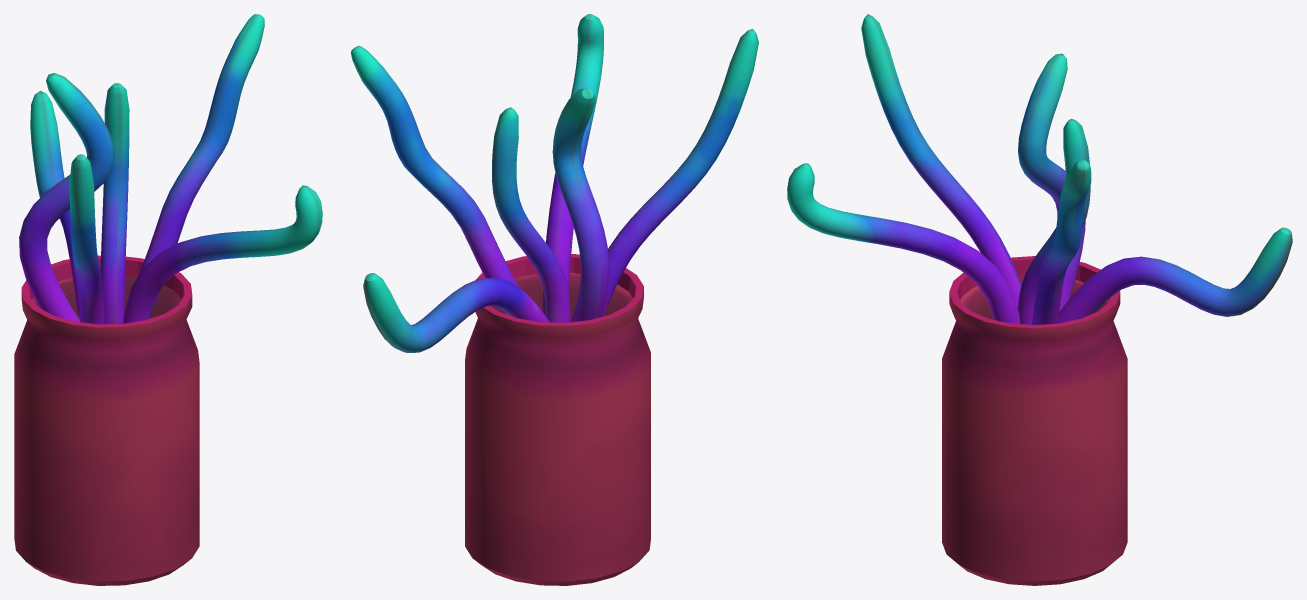
File: Food_Worms.fbx
3 renders of one model, left to right at view 1: azimuth 30°, elevation 25°; view 2: azimuth 150°, elevation 25°; view 3: azimuth 270°, elevation 25°, orthographic.
Visible parts, largest first — view 1: pCylinder13; view 2: pCylinder13; view 3: pCylinder13.
Boxes of the visible parts, <box> form: pCylinder13: <box>14,14,322,585</box>; pCylinder13: <box>351,14,758,585</box>; pCylinder13: <box>787,14,1292,585</box>.
Bounding box in the file's own units: 19.92 × 31.04 × 29.44.
1 material, 1 textured.
